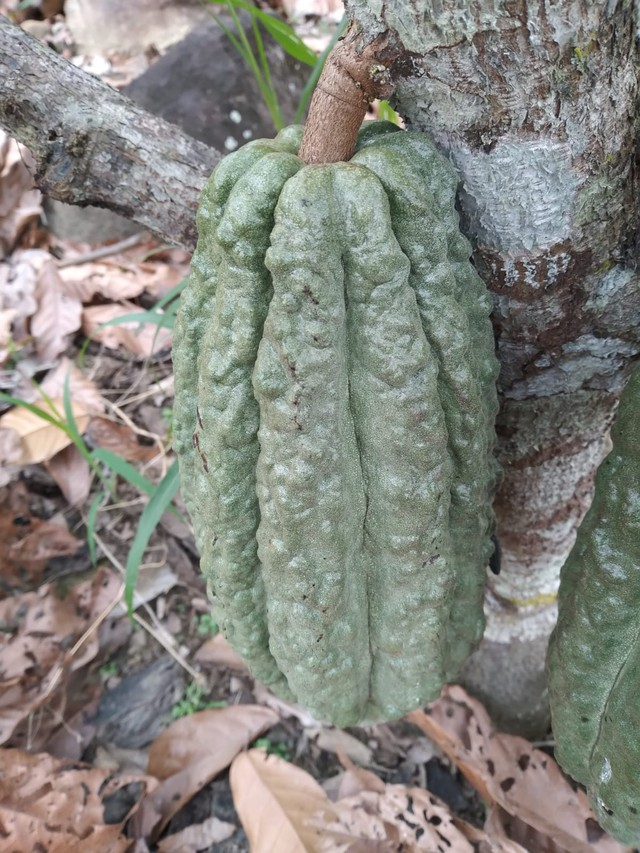Health: (165, 109, 512, 732)
